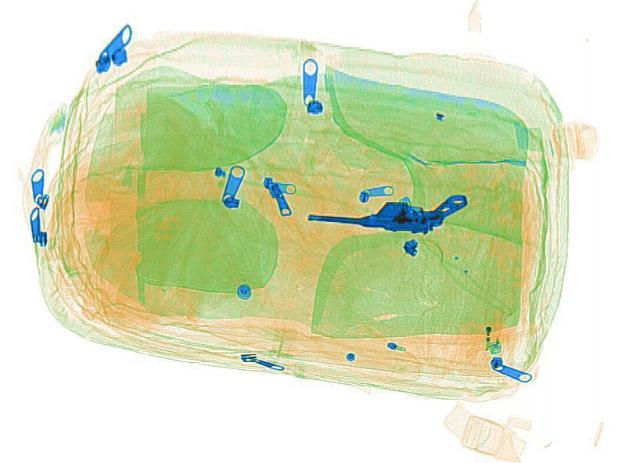Gun: (303, 191, 471, 236)
